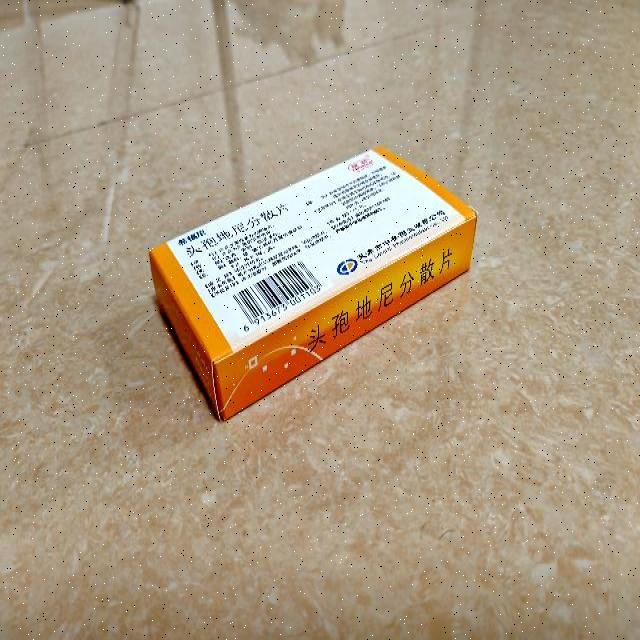box: (148, 146, 476, 422)
